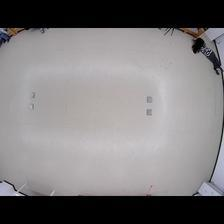fall: (191, 36, 223, 75)
